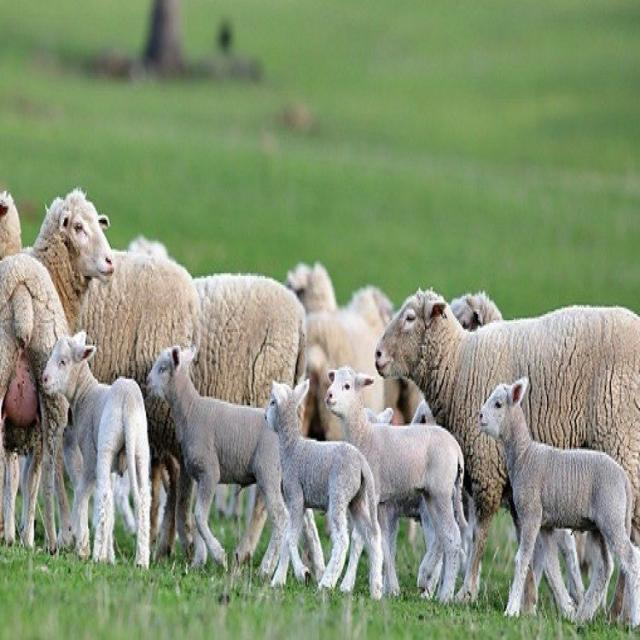sheep: (375, 290, 639, 595), (0, 190, 113, 546), (478, 378, 639, 620), (324, 367, 463, 593), (146, 346, 289, 561), (42, 332, 150, 567), (265, 382, 382, 596), (77, 250, 198, 388), (193, 273, 305, 405), (305, 309, 417, 438)
